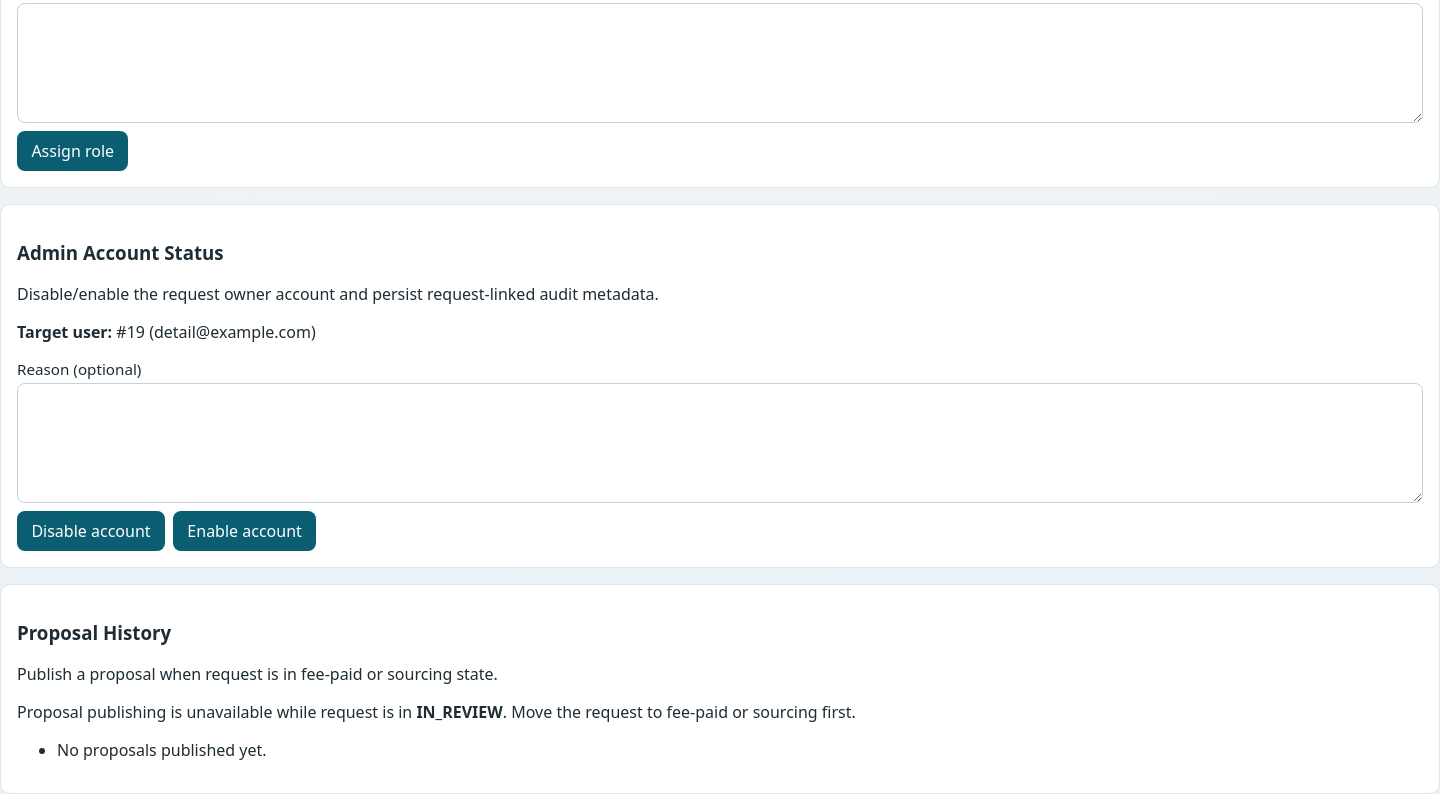
Test: OperatorRequestDetailPage › allows admin to disable account from request detail context
(page scrolled)
Expected: the heading "Admin Account Status" is shown, [17,240,224,265]
Type "Compliance hold pending verification." into the text box labelled "Reason (optional)" below "Target user:" at (720, 443), box [17,383,1423,503]
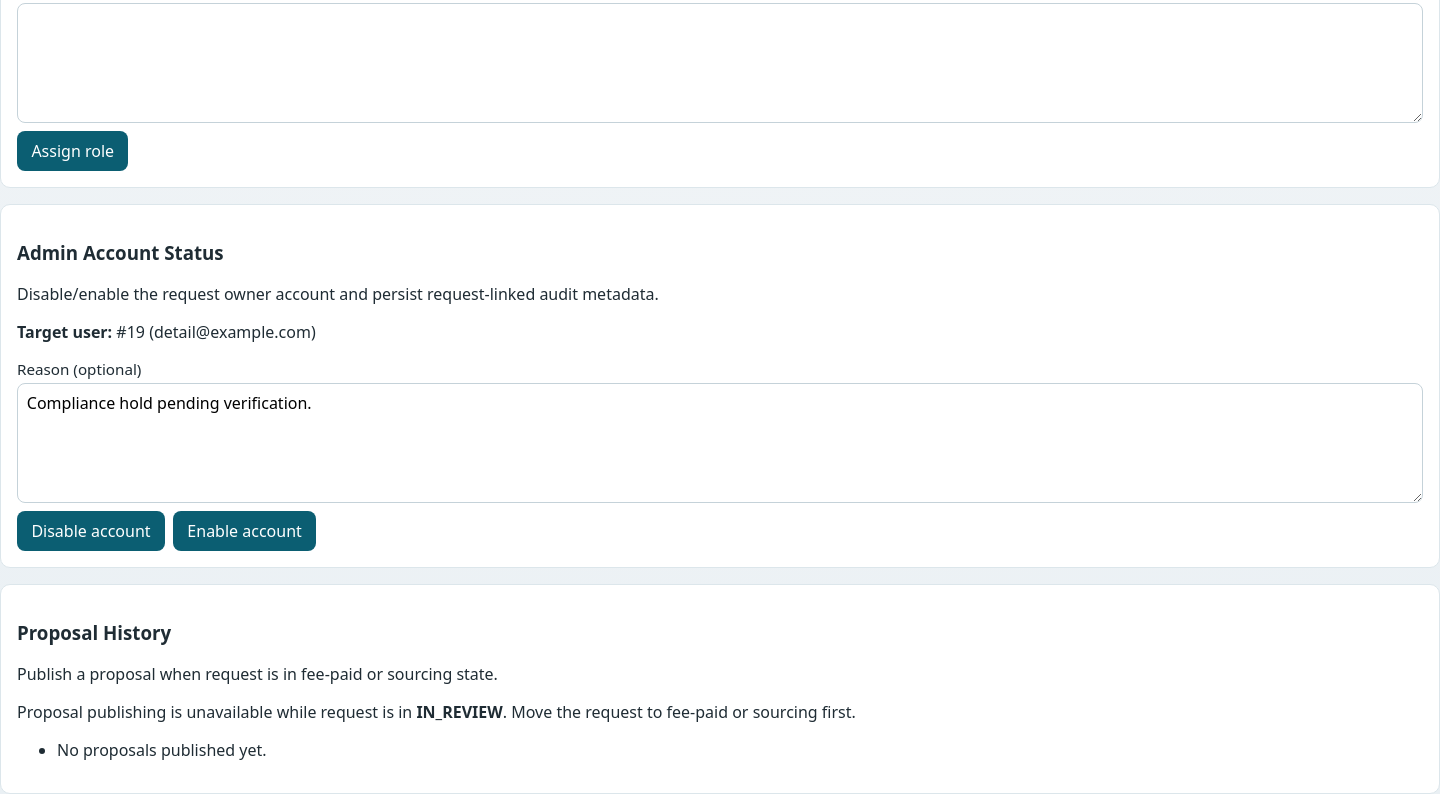
Click the button "Disable account" at (91, 531), box [17,511,165,551]
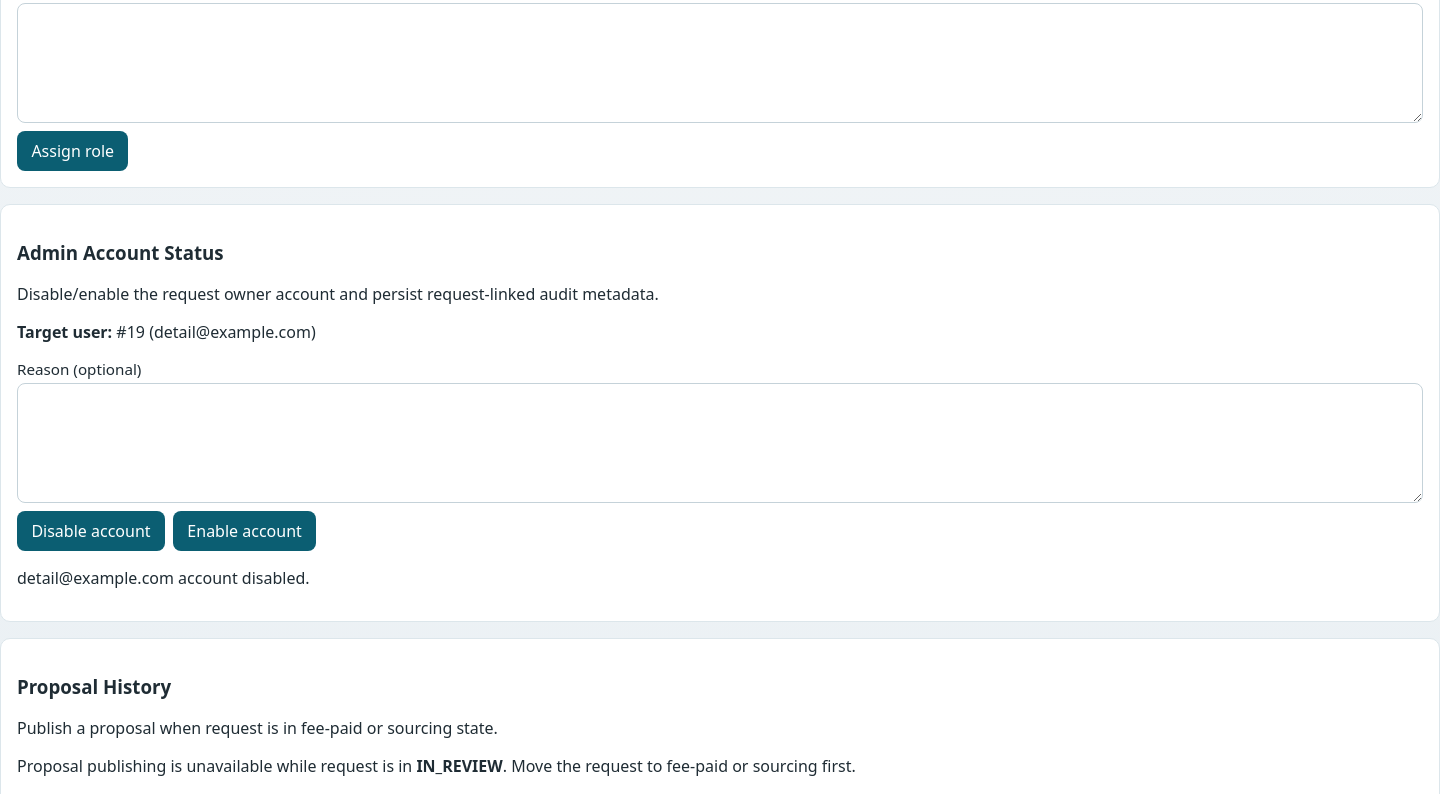
Expected: the text "detail@example.com account disabled." is shown, [17,567,310,589]
